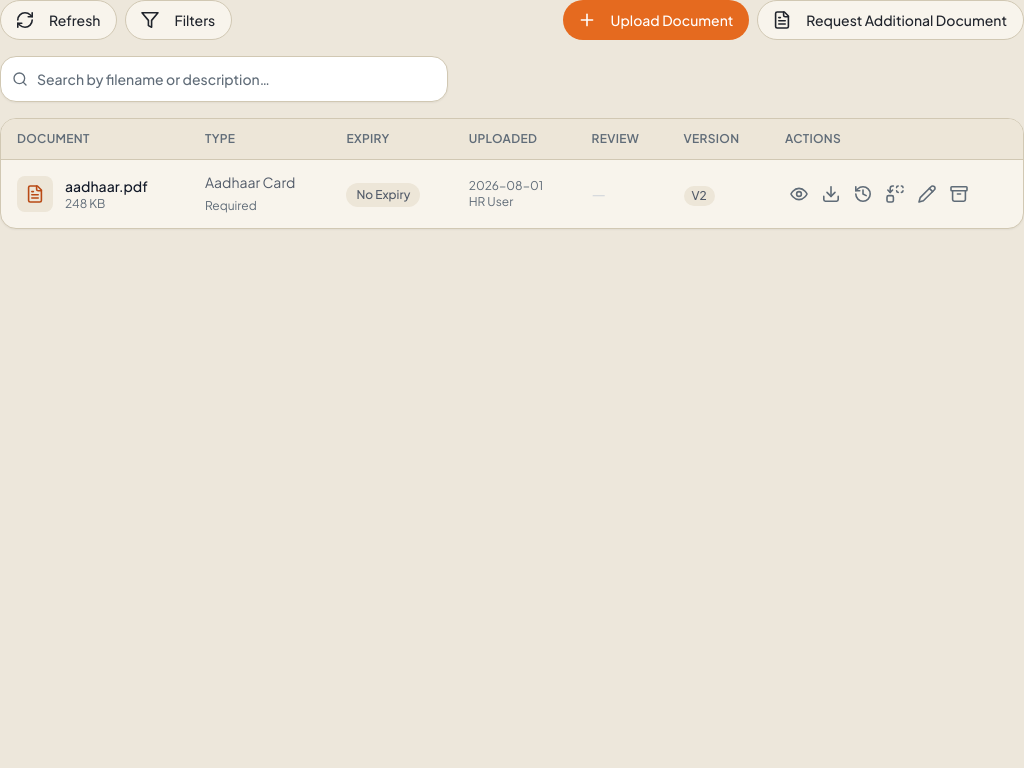
it: DocumentsTab › shows a permission message when preview is denied
Click the button titled "Preview" at point(799, 194), box [785,180,813,208]
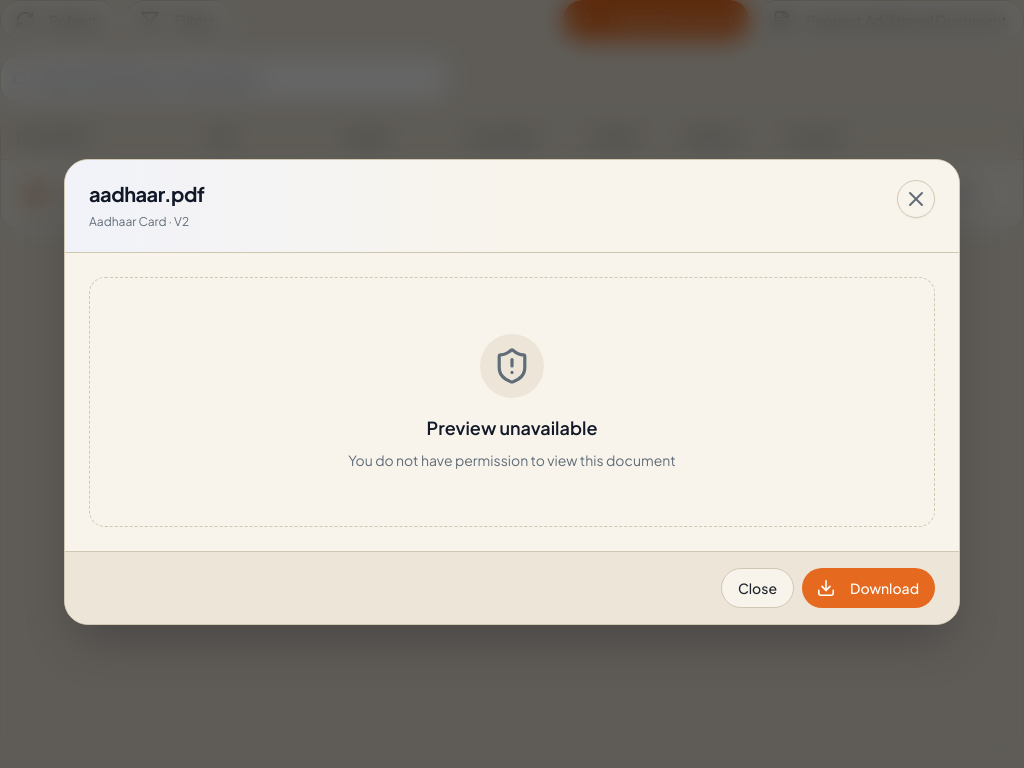
Now the heading "Preview unavailable" is shown, box [427,414,598,442]
Now the text "You do not have permission to view this document" is shown, box [348,450,676,470]
